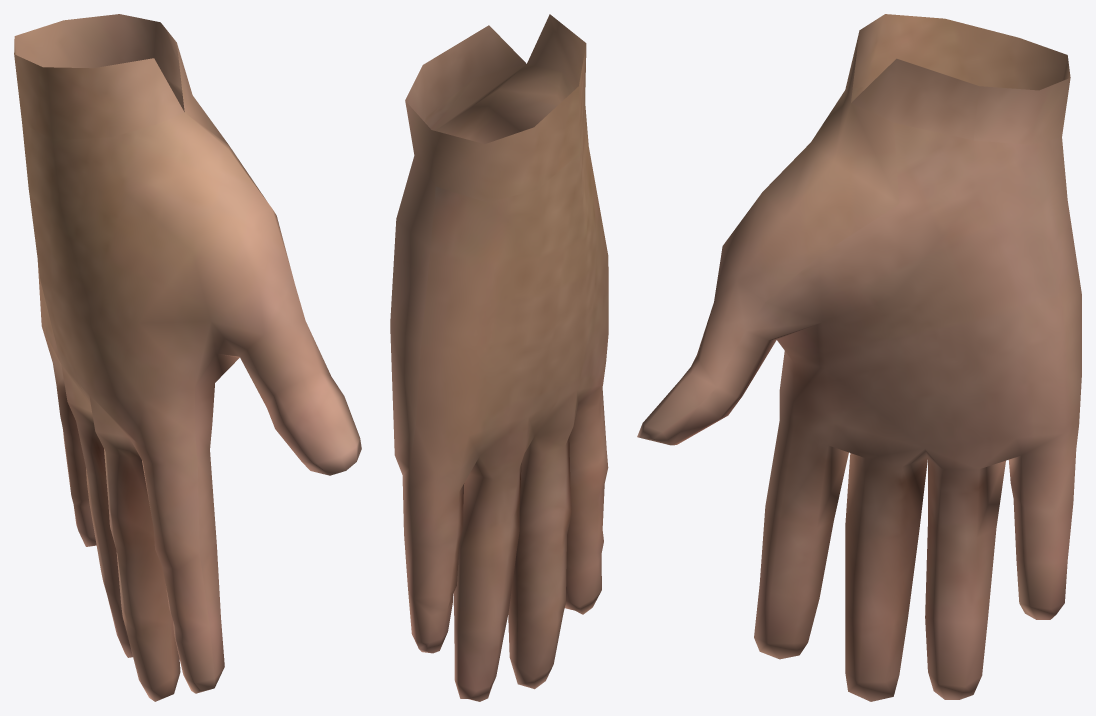
The model's file is character_hand_l.glb.
3 views of the same model, side by side, from view 1: azimuth 30°, elevation 25°; view 2: azimuth 150°, elevation 25°; view 3: azimuth 270°, elevation 25° (orthographic). The views are drawn at different scales.
Parts seen in each view (by area): view 1: tripo_node_bc81f8f9-a104-44a7-afac-f094b41faff7; view 2: tripo_node_bc81f8f9-a104-44a7-afac-f094b41faff7; view 3: tripo_node_bc81f8f9-a104-44a7-afac-f094b41faff7.
Part boxes in pixels (left/top/right/bottom): tripo_node_bc81f8f9-a104-44a7-afac-f094b41faff7: left=14, top=14, right=361, bottom=701; tripo_node_bc81f8f9-a104-44a7-afac-f094b41faff7: left=390, top=14, right=608, bottom=701; tripo_node_bc81f8f9-a104-44a7-afac-f094b41faff7: left=637, top=14, right=1081, bottom=701.
Size of the model in its own units: 0.0649 by 0.2205 by 0.1333.
1 material, 1 textured.
